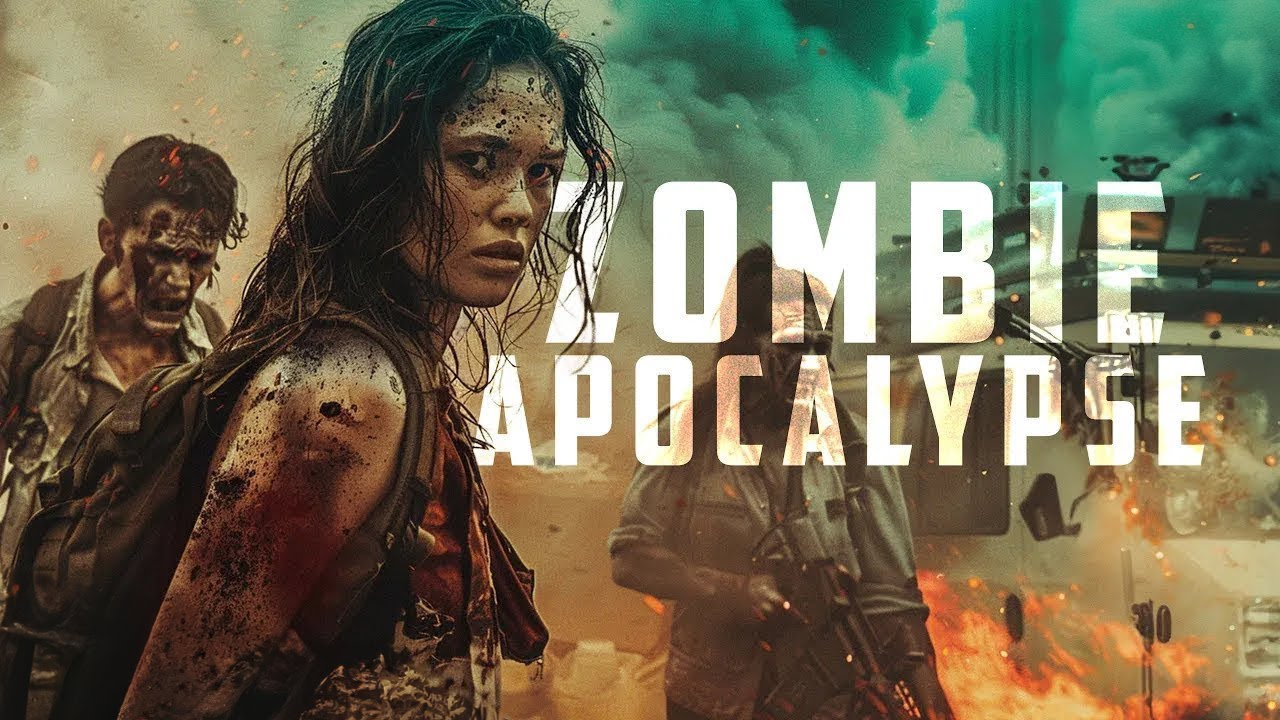human: (59, 2, 625, 710), (0, 134, 241, 703)
